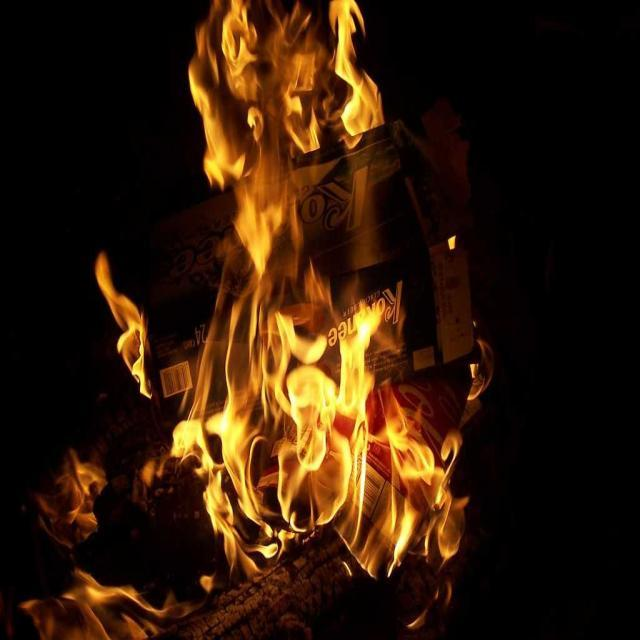Fire: (196, 19, 401, 540)
